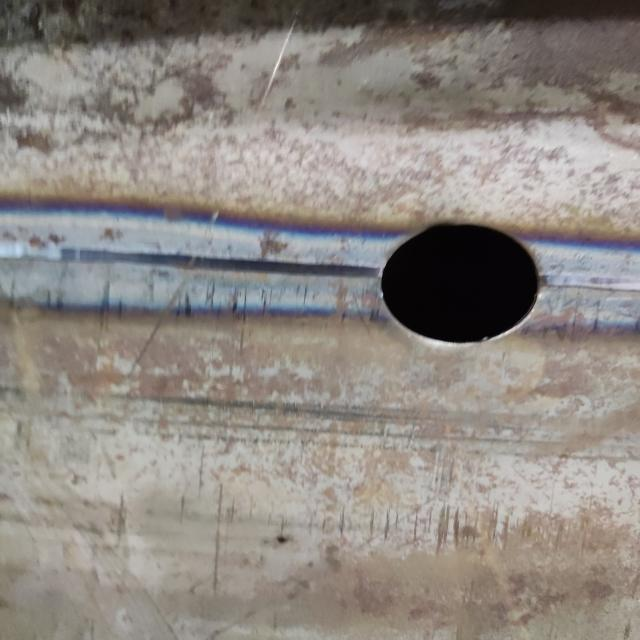seam: (0, 180, 640, 343)
